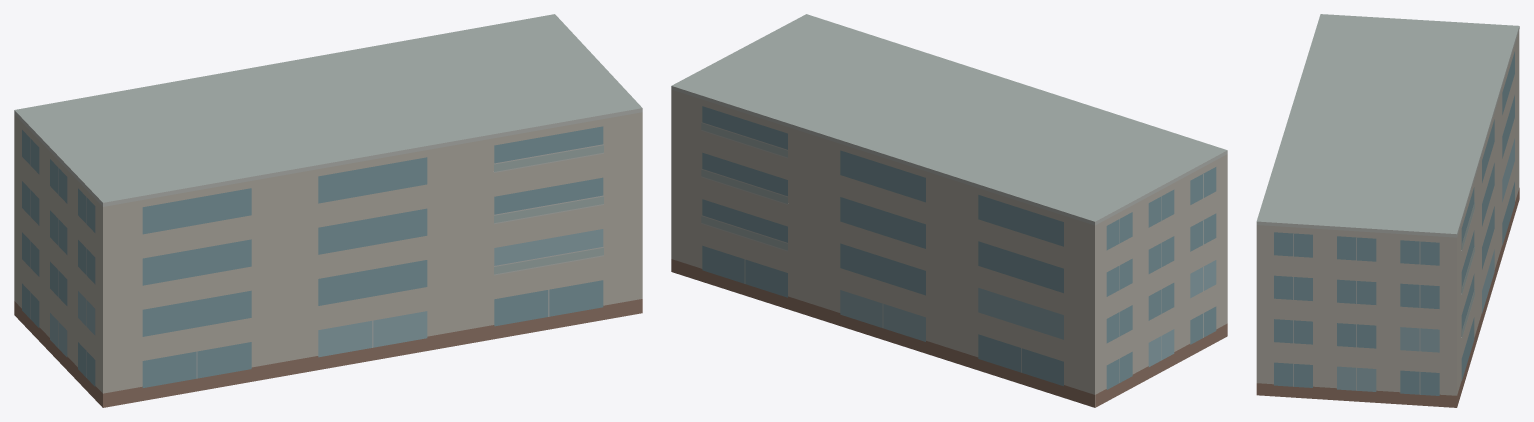
File: residential-8ade511c-9828-41cd-bcd9-e7791a4f87fe.glb
The picture shows the model from 3 angles, left to right: view 1: azimuth 30°, elevation 25°; view 2: azimuth 150°, elevation 25°; view 3: azimuth 270°, elevation 25°; orthographic projection. The views are drawn at different scales.
Visible parts, largest first — view 1: residential-8ade511c-9828-41cd-bcd9-e7791a4f87fe.tmp; view 2: residential-8ade511c-9828-41cd-bcd9-e7791a4f87fe.tmp; view 3: residential-8ade511c-9828-41cd-bcd9-e7791a4f87fe.tmp.
Boxes of the visible parts, left/top/right/bottom form: residential-8ade511c-9828-41cd-bcd9-e7791a4f87fe.tmp: left=14, top=14, right=642, bottom=407; residential-8ade511c-9828-41cd-bcd9-e7791a4f87fe.tmp: left=671, top=14, right=1227, bottom=407; residential-8ade511c-9828-41cd-bcd9-e7791a4f87fe.tmp: left=1256, top=14, right=1519, bottom=407.
Size of the model in its own units: 33.17 by 12.2 by 16.74.
